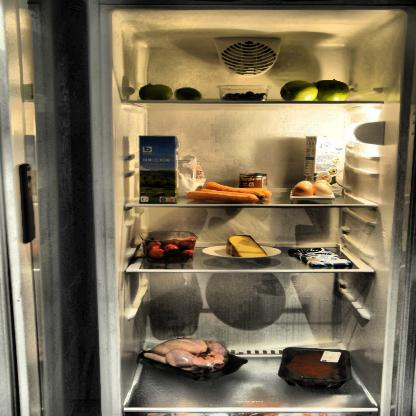apple: (281, 79, 351, 101)
beef: (280, 348, 348, 385)
blueberries: (221, 89, 265, 104)
carrot: (187, 180, 270, 208)
cheese: (224, 235, 270, 259)
chicken: (139, 338, 239, 372)
chocolate: (287, 245, 356, 268)
corn: (239, 174, 271, 191)
eggs: (290, 180, 338, 200)
lime: (138, 82, 205, 102)
milk: (138, 135, 178, 206), (306, 136, 347, 196)
strawberries: (143, 235, 195, 264)
